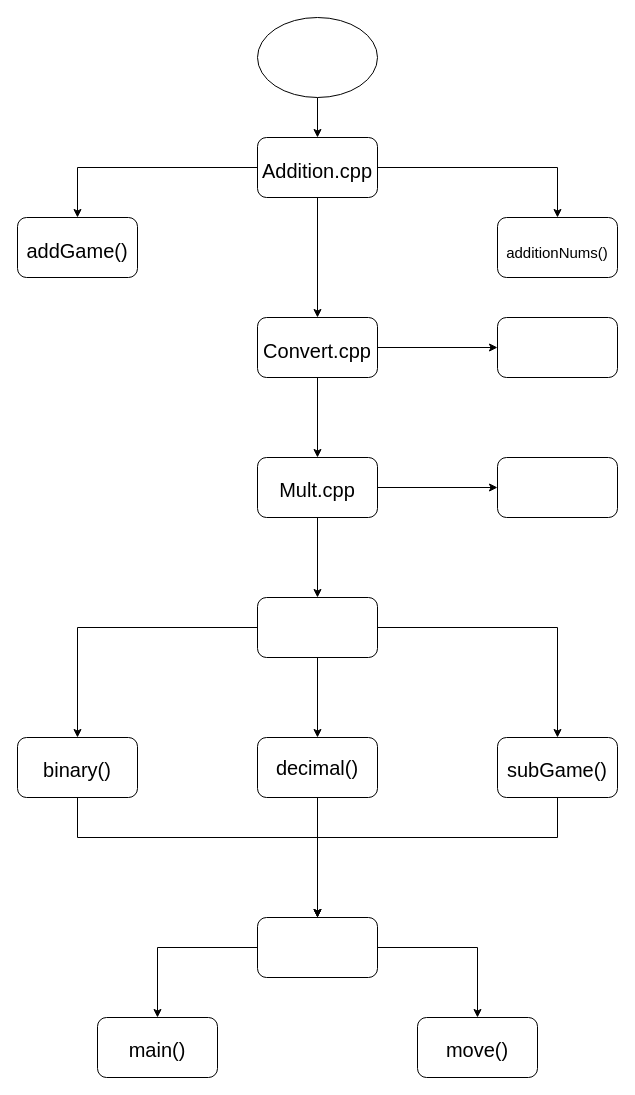
This 635x1095 diagram has some shape labels left out. Here are the shapes that lost their labels. From the top down, the centre of each, then its label:
At point (317, 57): "Launch the game".
At point (557, 347): "conGame()".
At point (557, 487): "multGame()".
At point (317, 627): "Subtract.cpp".
At point (317, 947): "main.cpp".
